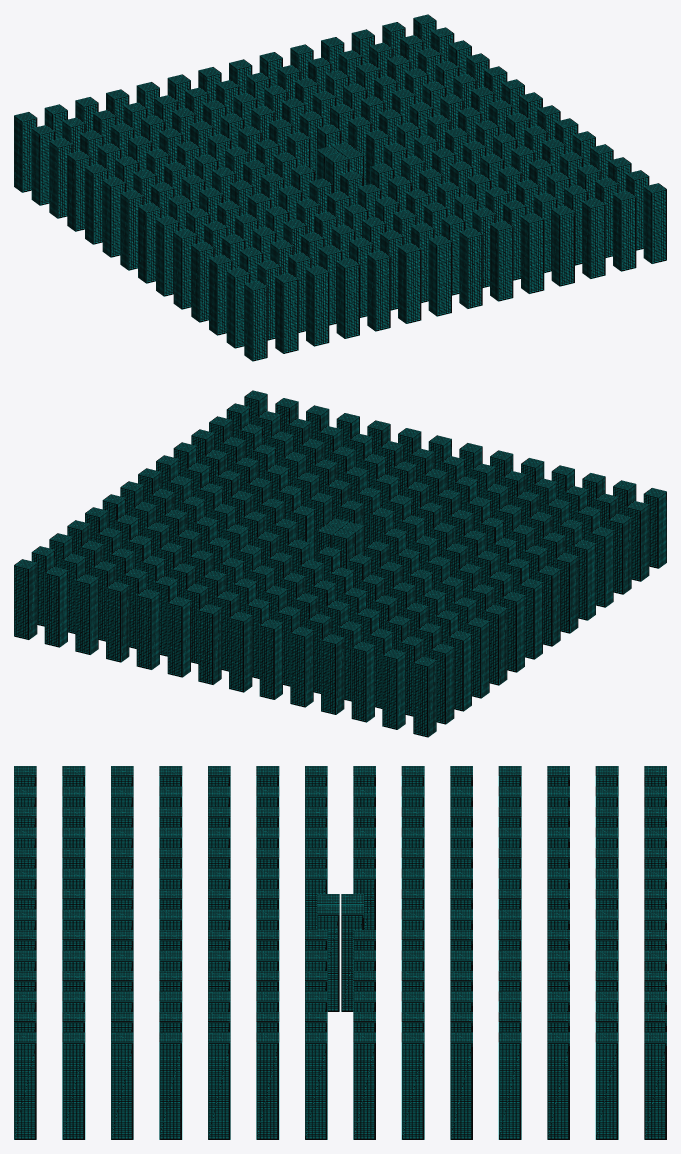
File: 32bitCluster.obj
3 views of the same model, one above another, from view 1: azimuth 30°, elevation 25°; view 2: azimuth 150°, elevation 25°; view 3: azimuth 270°, elevation 25° (orthographic). The views are drawn at different scales.
Parts seen in each view (by area): view 1: Box174, Box178, Box171, Box176, Box177, Box179, Box182, Box184, Box172, Box173, Box175, Box181 (+180 smaller); view 2: Box147, Box156, Box146, Box148, Box151, Box152, Box153, Box196, Box150, Box154, Box155, Box163 (+180 smaller); view 3: Box158, Box160, Box162, Box164, Box165, Box167, Box157, Box159, Box161, Box163, Box166, Box168 (+6 smaller).
Part boxes in pixels (x1=…): Box174: x1=398, y1=243, x2=421, y2=323; Box178: x1=428, y1=235, x2=451, y2=316; Box171: x1=551, y1=205, x2=574, y2=286; Box176: x1=490, y1=220, x2=513, y2=301; Box177: x1=521, y1=213, x2=544, y2=293; Box179: x1=275, y1=273, x2=298, y2=353; Box182: x1=367, y1=250, x2=390, y2=331; Box184: x1=244, y1=280, x2=267, y2=361; Box172: x1=306, y1=265, x2=329, y2=346; Box173: x1=582, y1=198, x2=605, y2=278; Box175: x1=459, y1=228, x2=482, y2=308; Box181: x1=643, y1=183, x2=666, y2=263; Box147: x1=259, y1=619, x2=282, y2=699; Box156: x1=229, y1=611, x2=252, y2=692; Box146: x1=290, y1=626, x2=313, y2=707; Box148: x1=167, y1=596, x2=190, y2=677; Box151: x1=106, y1=581, x2=129, y2=662; Box152: x1=136, y1=589, x2=159, y2=669; Box153: x1=382, y1=649, x2=405, y2=729; Box196: x1=413, y1=656, x2=436, y2=737; Box150: x1=351, y1=641, x2=374, y2=722; Box154: x1=198, y1=604, x2=221, y2=684; Box155: x1=75, y1=574, x2=98, y2=654; Box163: x1=14, y1=559, x2=37, y2=639; Box158: x1=256, y1=1032, x2=279, y2=1139; Box160: x1=498, y1=1032, x2=521, y2=1139; Box162: x1=595, y1=1032, x2=618, y2=1139; Box164: x1=62, y1=1032, x2=85, y2=1139; Box165: x1=159, y1=1032, x2=182, y2=1139; Box167: x1=401, y1=1032, x2=424, y2=1139; Box157: x1=547, y1=1032, x2=569, y2=1139; Box159: x1=208, y1=1032, x2=230, y2=1139; Box161: x1=111, y1=1032, x2=133, y2=1139; Box163: x1=644, y1=1032, x2=666, y2=1139; Box166: x1=450, y1=1032, x2=472, y2=1139; Box168: x1=353, y1=1032, x2=375, y2=1139.
Size of the model in its own units: 26.98 by 4.45 by 26.94.
Materials: 1 (1 with a texture image).
